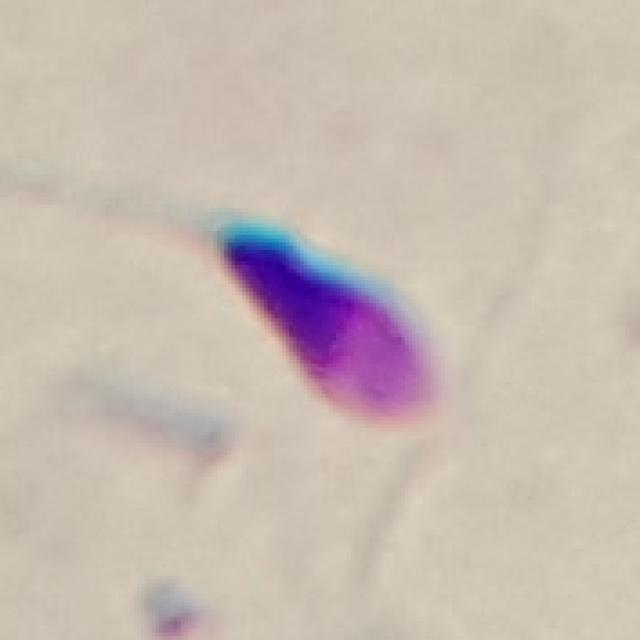abnormal sperm: (7, 187, 464, 444)
